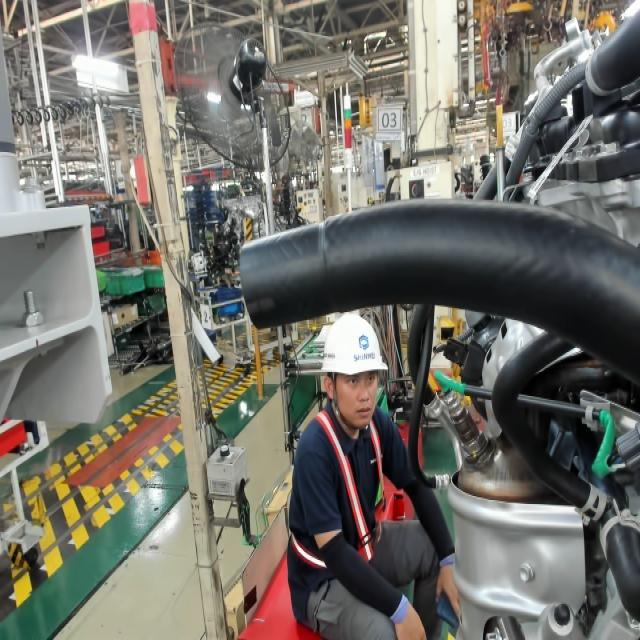Hose Radiator-PC: (246, 293, 278, 318)
